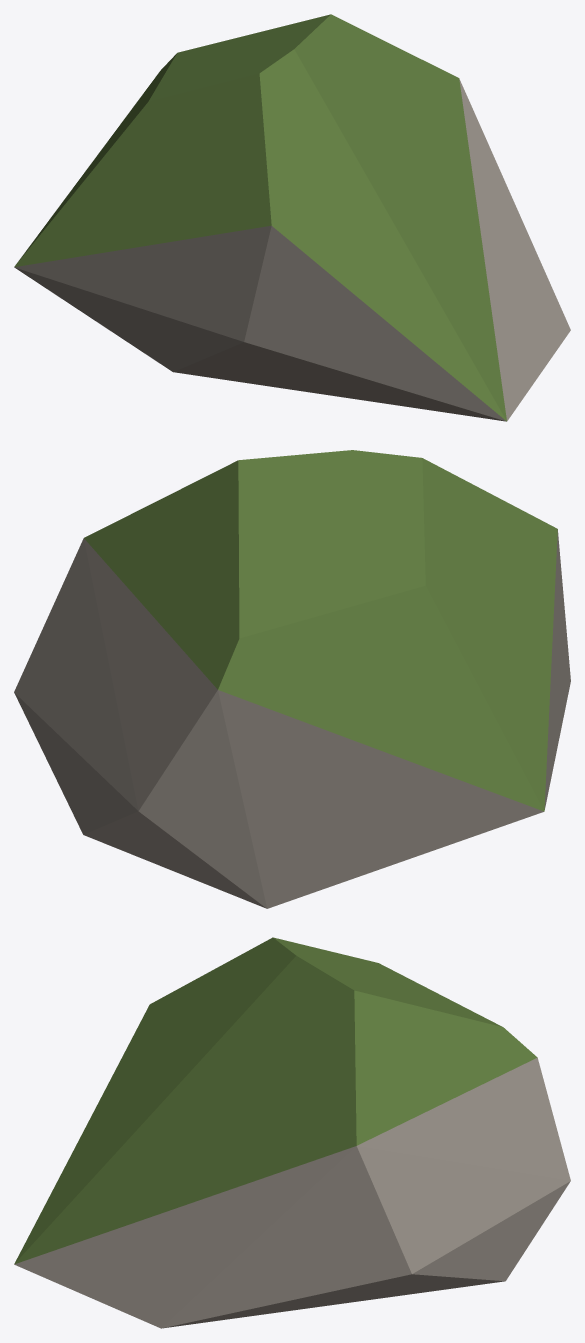
Rendered from Rock_S_B.fbx.
3 views of the same model, one above another, from view 1: azimuth 30°, elevation 25°; view 2: azimuth 150°, elevation 25°; view 3: azimuth 270°, elevation 25° (orthographic). The views are drawn at different scales.
Parts seen in each view (by area): view 1: Rock_S_B; view 2: Rock_S_B; view 3: Rock_S_B.
Part boxes in pixels (x1=…): Rock_S_B: x1=14, y1=14, x2=570, y2=421; Rock_S_B: x1=14, y1=450, x2=570, y2=908; Rock_S_B: x1=14, y1=937, x2=570, y2=1328.
Bounding box in the file's own units: 0.95 × 0.58 × 1.05.
